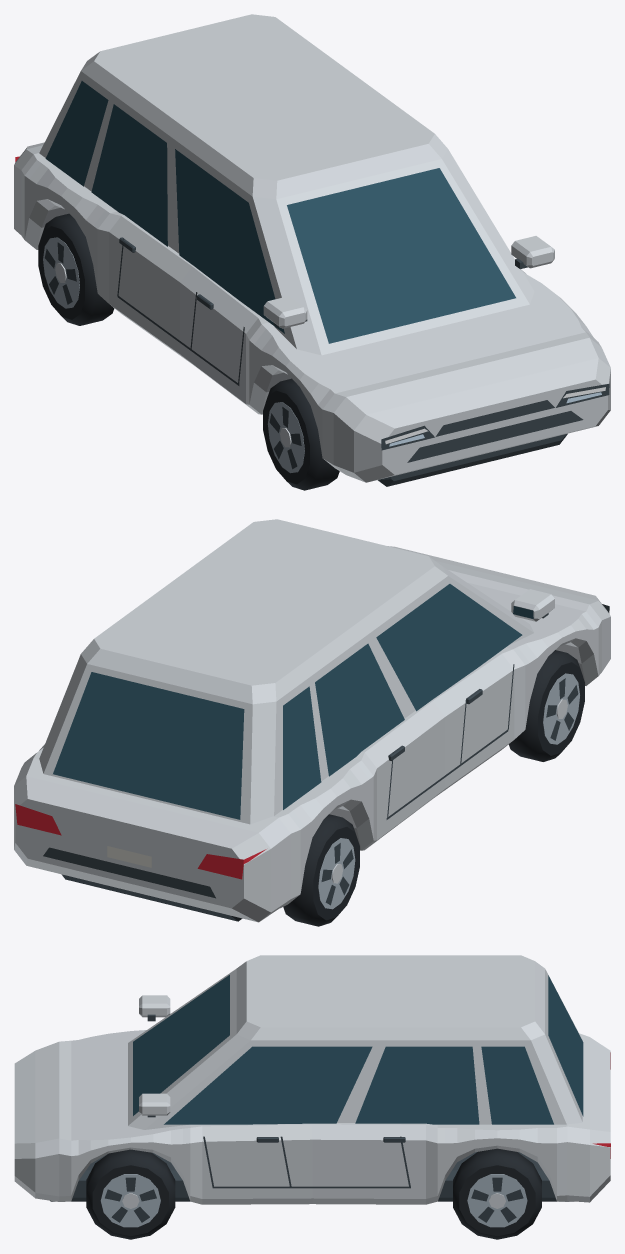
The model's file is car_hatchback.glb.
The picture shows the model from 3 angles, top to bottom: view 1: azimuth 30°, elevation 25°; view 2: azimuth 150°, elevation 25°; view 3: azimuth 270°, elevation 25°; orthographic projection. The views are drawn at different scales.
Parts seen in each view (by area): view 1: car_hatchback; view 2: car_hatchback; view 3: car_hatchback.
Part boxes in pixels (x1,y1,x2,y2): car_hatchback: [14, 14, 610, 490]; car_hatchback: [14, 519, 610, 926]; car_hatchback: [14, 955, 610, 1239].
Bounding box in the file's own units: 1.75 × 1.45 × 4.
